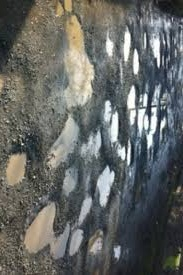pothole: (56, 4, 94, 112), (20, 201, 72, 270), (45, 114, 81, 170), (3, 147, 30, 192), (145, 83, 162, 149), (93, 162, 114, 209), (79, 127, 102, 163), (85, 228, 108, 259), (66, 228, 87, 259), (126, 80, 139, 128), (62, 163, 79, 199), (136, 94, 149, 138), (74, 195, 91, 226), (149, 31, 162, 70), (104, 244, 123, 266), (123, 137, 134, 171), (122, 23, 131, 64), (100, 96, 111, 127), (109, 106, 118, 143), (159, 89, 172, 112), (159, 113, 168, 144), (132, 46, 141, 74), (164, 16, 171, 50), (115, 139, 124, 162), (106, 33, 113, 58), (161, 53, 170, 70), (144, 144, 153, 161), (142, 31, 147, 51)
